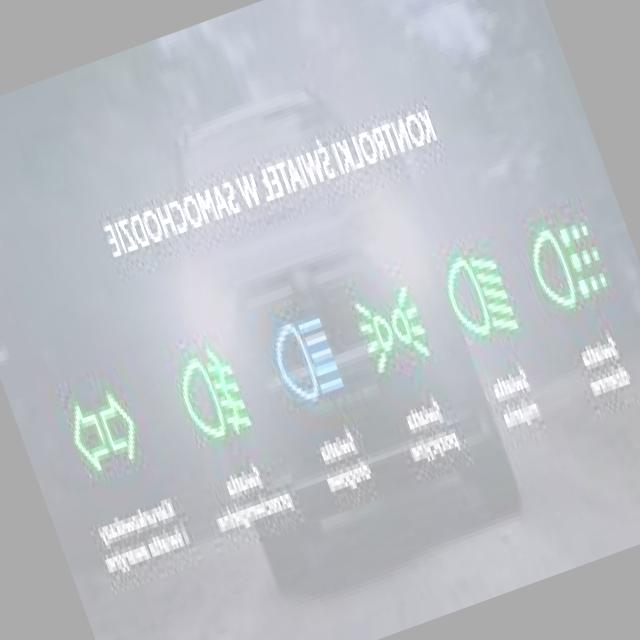kontrolka: (146, 311, 268, 478), (330, 259, 450, 402), (248, 290, 360, 428), (426, 226, 530, 364)
